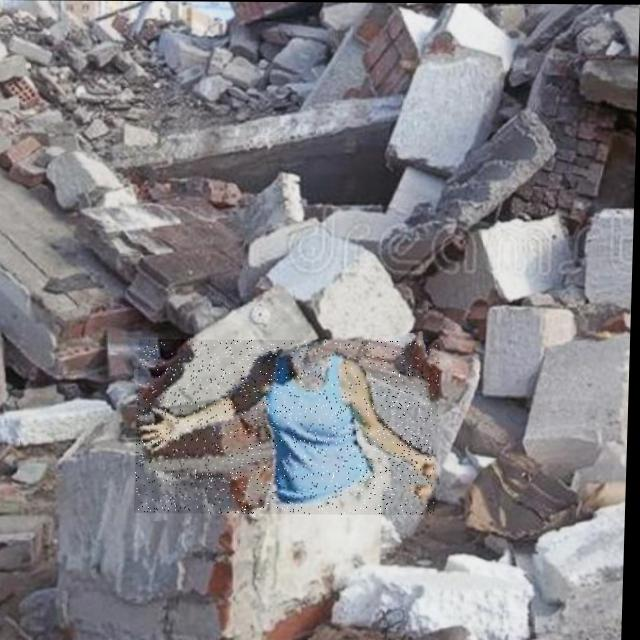Person in Rubble: (137, 339, 442, 515)
